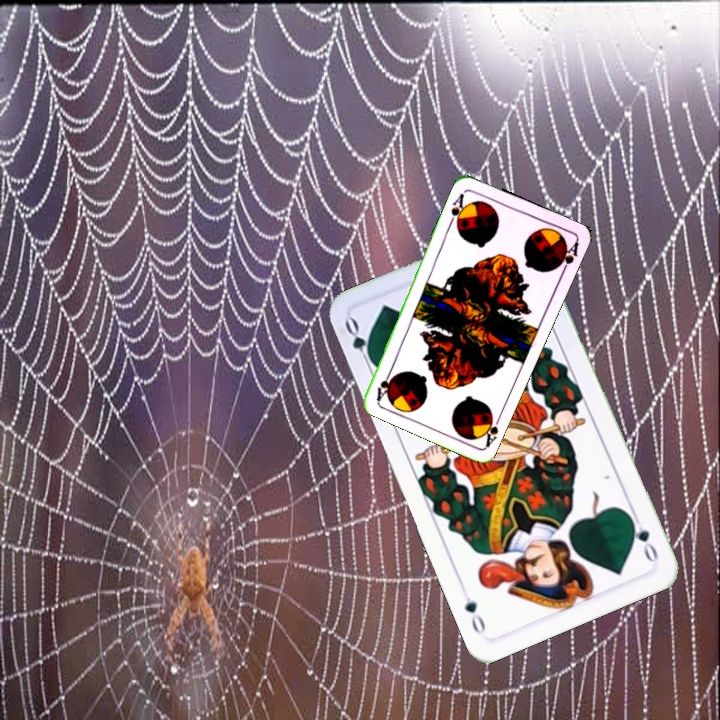GO: (340, 314, 378, 371), (625, 509, 661, 565)
SA: (477, 408, 504, 449), (446, 188, 469, 229)
